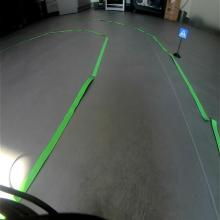crosswalk: (178, 27, 188, 40)
